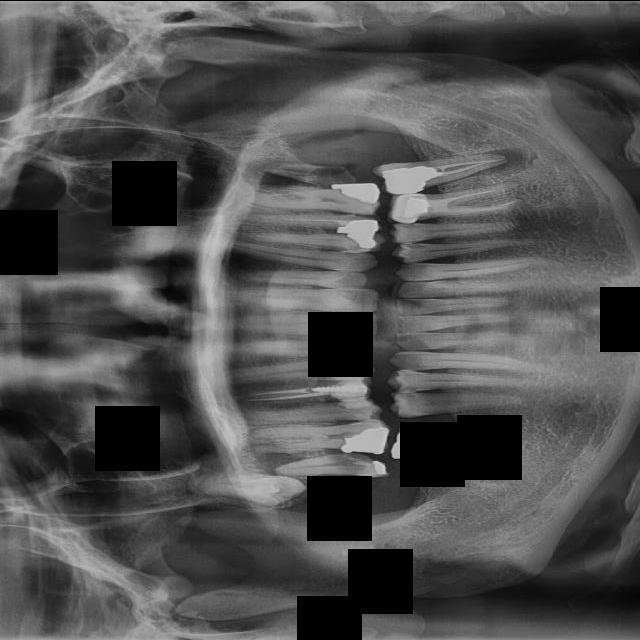71: (309, 383, 367, 391)
72: (262, 158, 354, 187)
74: (426, 437, 508, 487), (428, 186, 517, 218), (433, 154, 505, 177), (248, 390, 329, 402), (283, 217, 351, 225), (252, 388, 311, 394)
NucleOSS Implant: (337, 422, 393, 463), (390, 426, 443, 464), (382, 162, 444, 194), (331, 181, 380, 203), (337, 218, 378, 233), (403, 196, 429, 219), (347, 230, 376, 249), (371, 461, 385, 474)
Sterngold Implant: (328, 453, 371, 473), (395, 223, 429, 229), (403, 242, 430, 248), (346, 245, 368, 252), (401, 384, 422, 391), (399, 237, 422, 243), (336, 252, 365, 256), (398, 392, 417, 396)
Straumann Implant: (331, 373, 371, 401), (339, 397, 371, 407), (356, 410, 375, 421)
Zimmer Implant: (386, 192, 430, 223)
